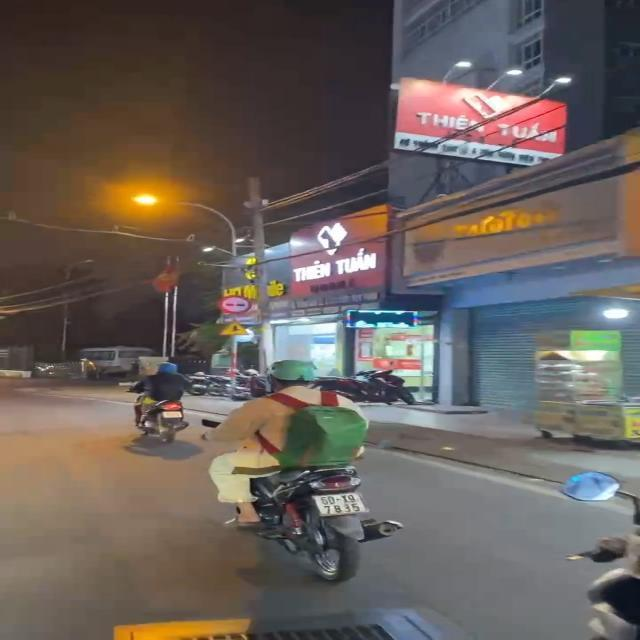125-cam-vuot: (218, 295, 252, 315)
207-giao-nhau-voi-duong-khong-uu-tien: (218, 318, 250, 338)
